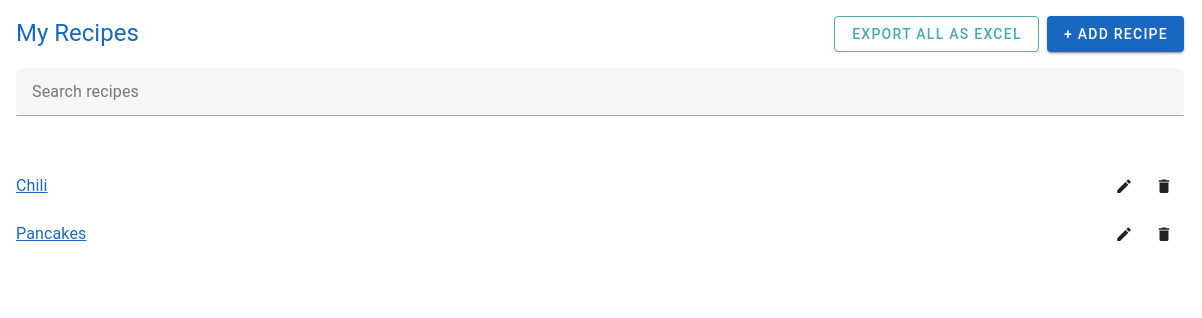
it: Feature 5 — Export Recipes › US-5.3 — Export all my recipes as Excel › Collection recipe export fails on the client
Step 1. Click the button "Export all as Excel" → point(936, 34), box [834,16,1039,52]
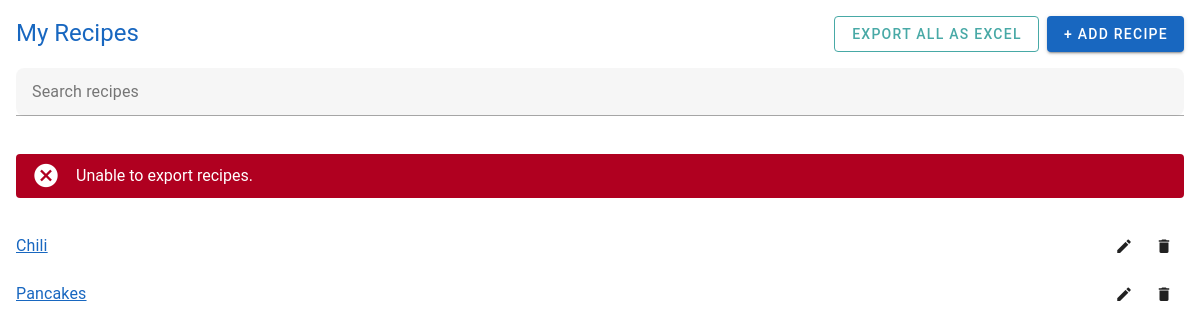
expect the message "Unable to export recipes." is shown: met, box [16,154,1184,198]
expect the text "Unable to export recipes." is shown: met, box [76,166,253,185]
